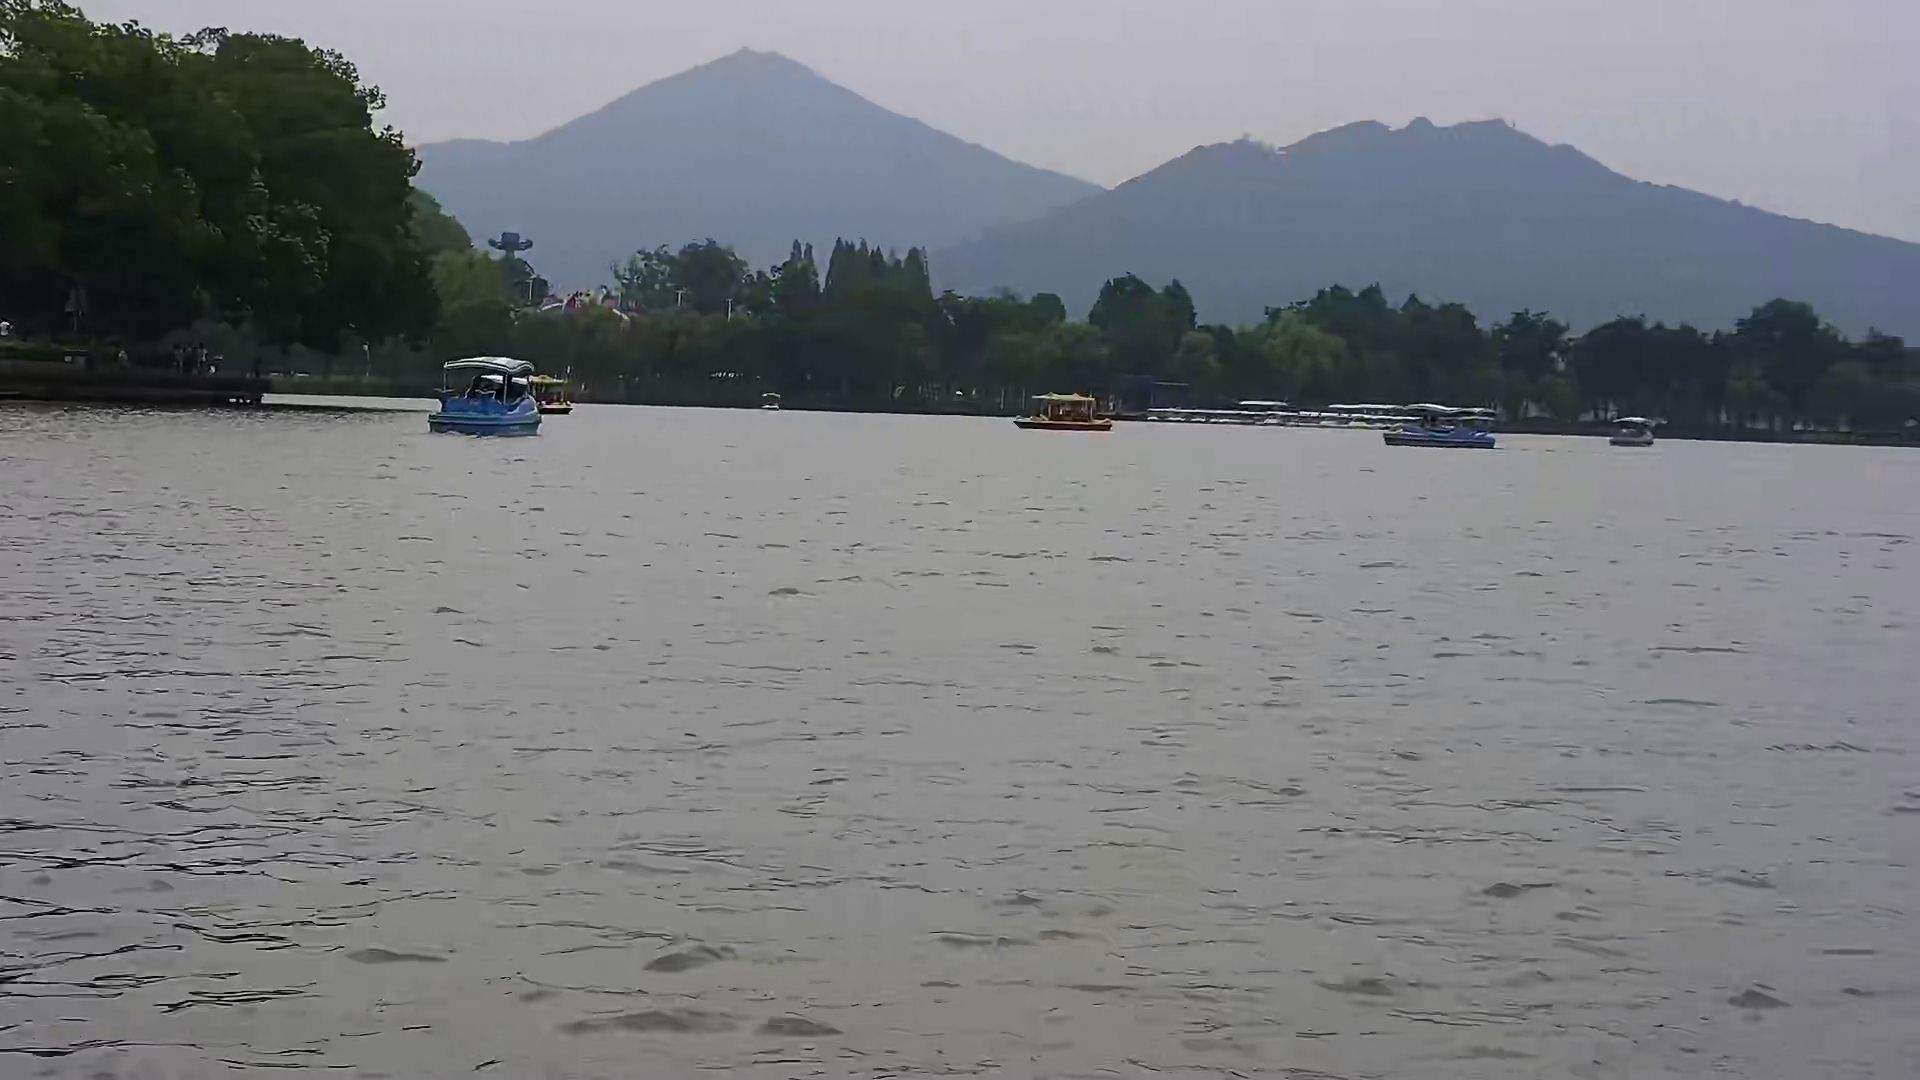boat: (418, 357, 549, 439), (1010, 380, 1120, 434), (1381, 400, 1493, 448), (1600, 413, 1663, 450)
